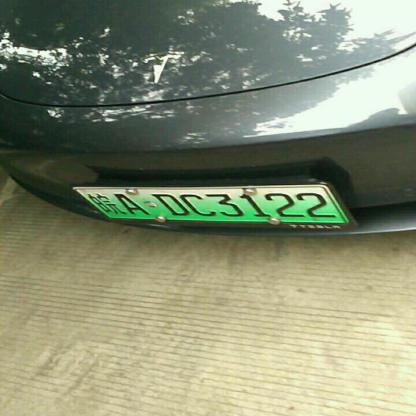lp: (72, 185, 346, 222)
